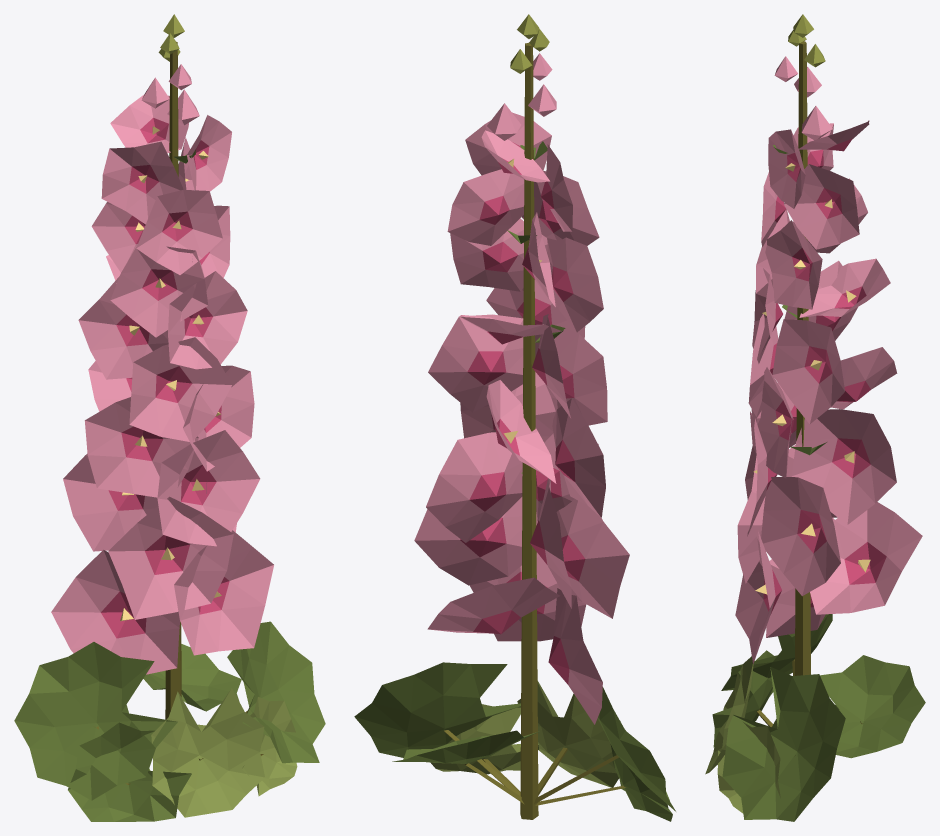
The model's file is hollyhock.glb.
3 renders of one model, left to right at view 1: azimuth 30°, elevation 25°; view 2: azimuth 150°, elevation 25°; view 3: azimuth 270°, elevation 25°, orthographic. The views are drawn at different scales.
Parts seen in each view (by area): view 1: blooms, leaves, leaves_pale, throats, stalk, centres, buds; view 2: blooms, leaves, throats, stalk, leaves_pale, buds; view 3: blooms, leaves, throats, stalk, leaves_pale, centres, buds.
Part boxes in pixels (x1,y1,x2,y2): blooms: (51, 64, 273, 674); leaves: (14, 149, 325, 821); leaves_pale: (151, 688, 297, 817); throats: (101, 117, 229, 638); stalk: (95, 42, 263, 784); centres: (120, 126, 221, 621); buds: (158, 14, 184, 61); blooms: (414, 53, 629, 724); leaves: (354, 141, 675, 821); throats: (460, 142, 585, 684); stalk: (444, 42, 625, 819); leaves_pale: (431, 681, 620, 787); buds: (510, 14, 549, 73); blooms: (735, 56, 922, 663); leaves: (712, 145, 925, 821); throats: (763, 138, 886, 614); stalk: (756, 41, 862, 755); leaves_pale: (705, 656, 780, 813); centres: (753, 163, 870, 594); buds: (788, 14, 825, 67).
Size of the model in its own units: 0.5921 by 1.46 by 0.3837.
